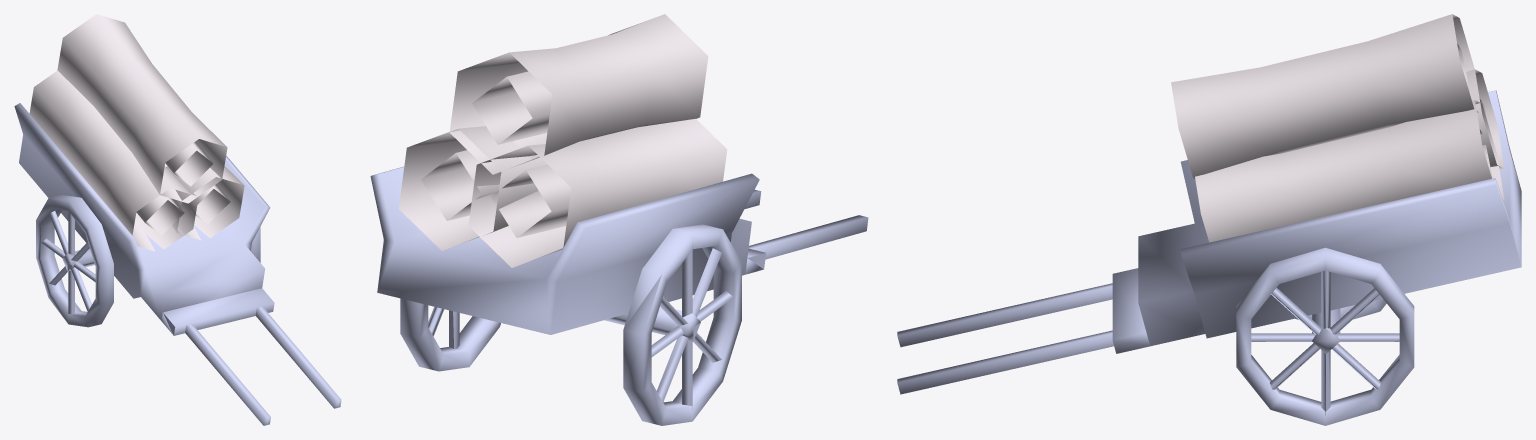
The picture shows the model from 3 angles, left to right: view 1: azimuth 30°, elevation 25°; view 2: azimuth 150°, elevation 25°; view 3: azimuth 270°, elevation 25°; orthographic projection. The views are drawn at different scales.
Visible parts, largest first — view 1: Object76; view 2: Object76; view 3: Object76.
Boxes of the visible parts, <box> form: Object76: <box>14,14,341,425</box>; Object76: <box>370,14,868,425</box>; Object76: <box>897,14,1521,425</box>.
Bounding box in the file's own units: 179 × 274 × 437.
